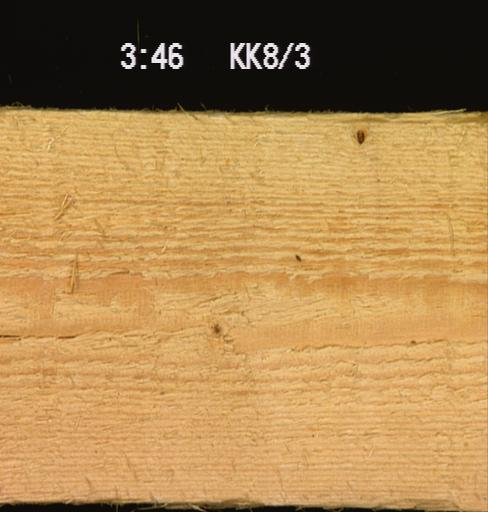dry_knot: (351, 127, 370, 146)
small_knot: (205, 321, 224, 337)
split: (0, 330, 78, 340)
wave: (182, 106, 487, 120)
